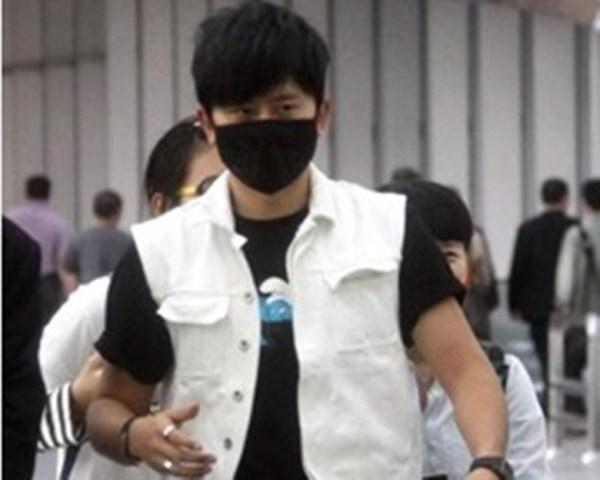OK: (211, 87, 316, 192)
